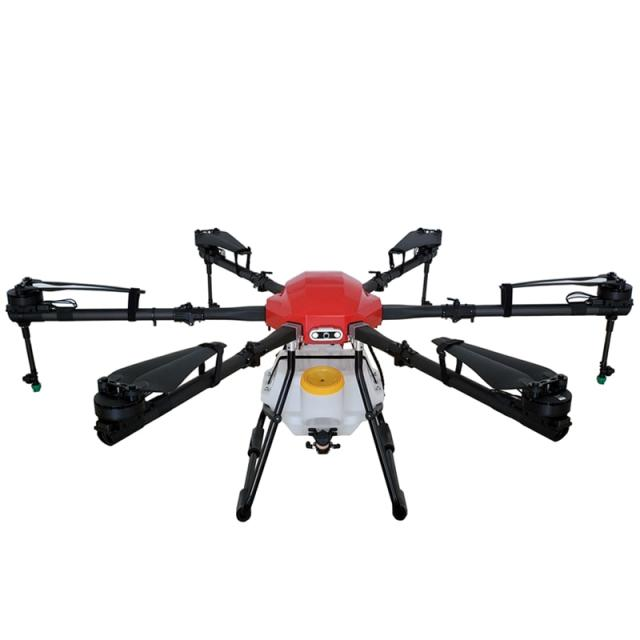drone: (0, 180, 623, 539)
